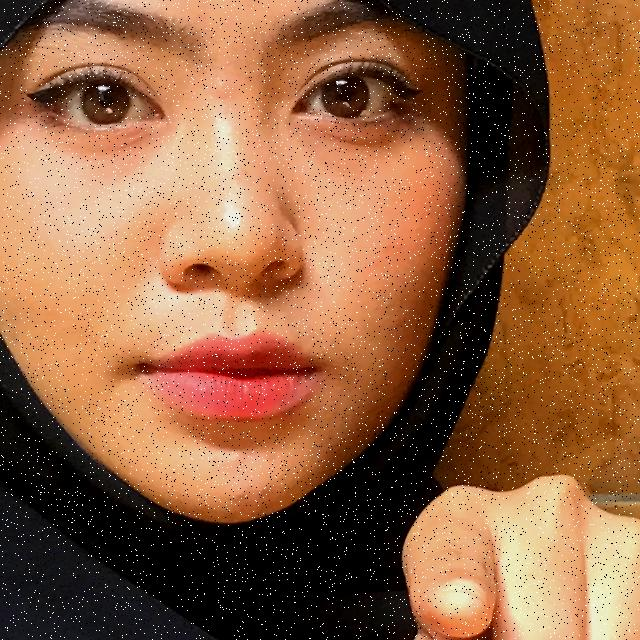kamu: (250, 386, 640, 640)
